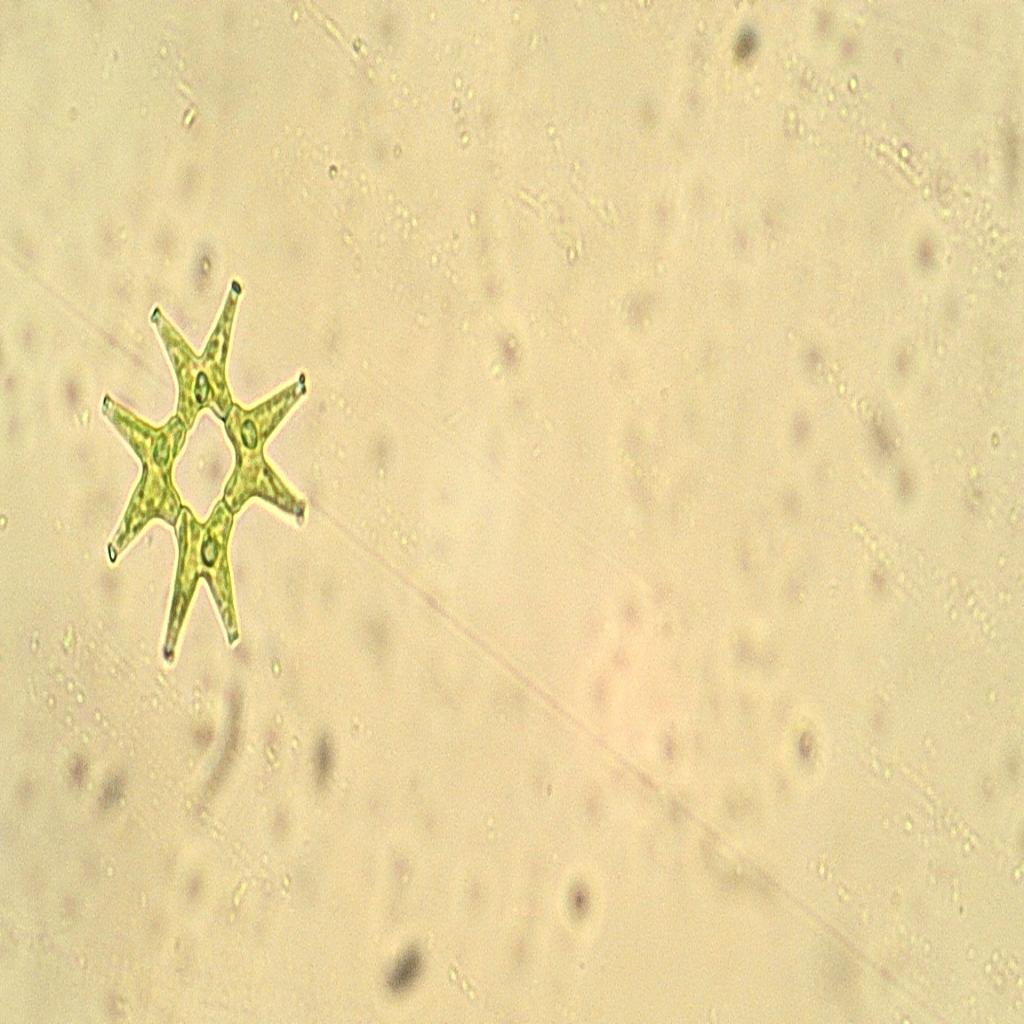Pediastrum_10: (84, 272, 326, 682)
